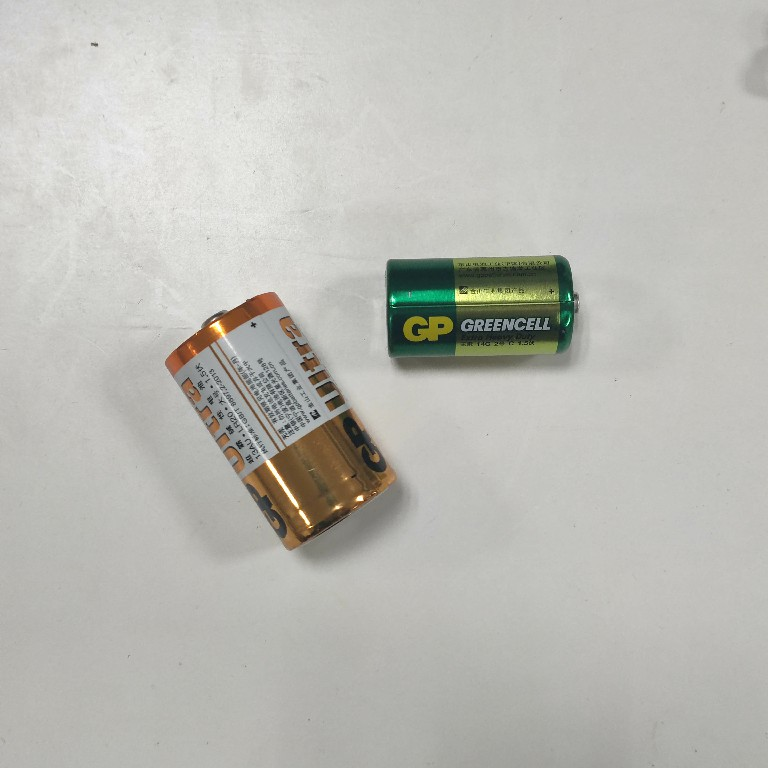charge: (163, 287, 404, 557), (381, 251, 581, 362)
